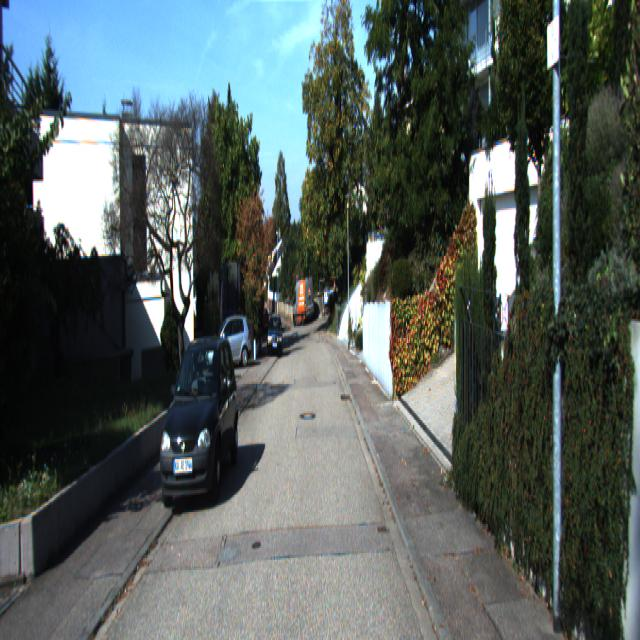Car: (156, 334, 240, 518), (204, 313, 253, 371), (293, 278, 315, 328), (267, 315, 283, 357)
